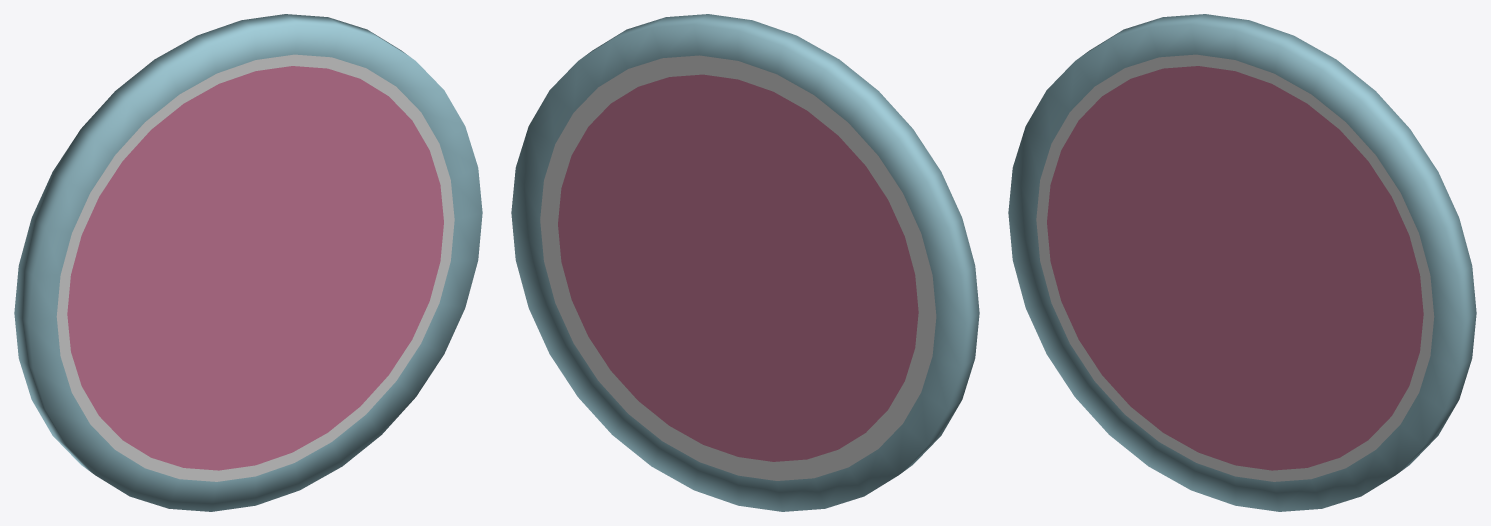
Rendered from titlerings_A_Awaodori.fbx.
The picture shows the model from 3 angles, left to right: view 1: azimuth 30°, elevation 25°; view 2: azimuth 150°, elevation 25°; view 3: azimuth 330°, elevation 25°; orthographic projection.
Parts seen in each view (by area): view 1: A_Awaodori; view 2: A_Awaodori; view 3: A_Awaodori.
Part boxes in pixels (x1,y1,x2,y2): A_Awaodori: [14, 14, 482, 511]; A_Awaodori: [511, 14, 979, 511]; A_Awaodori: [1008, 14, 1476, 511].
Bounding box in the file's own units: 219 × 219 × 12.06.
